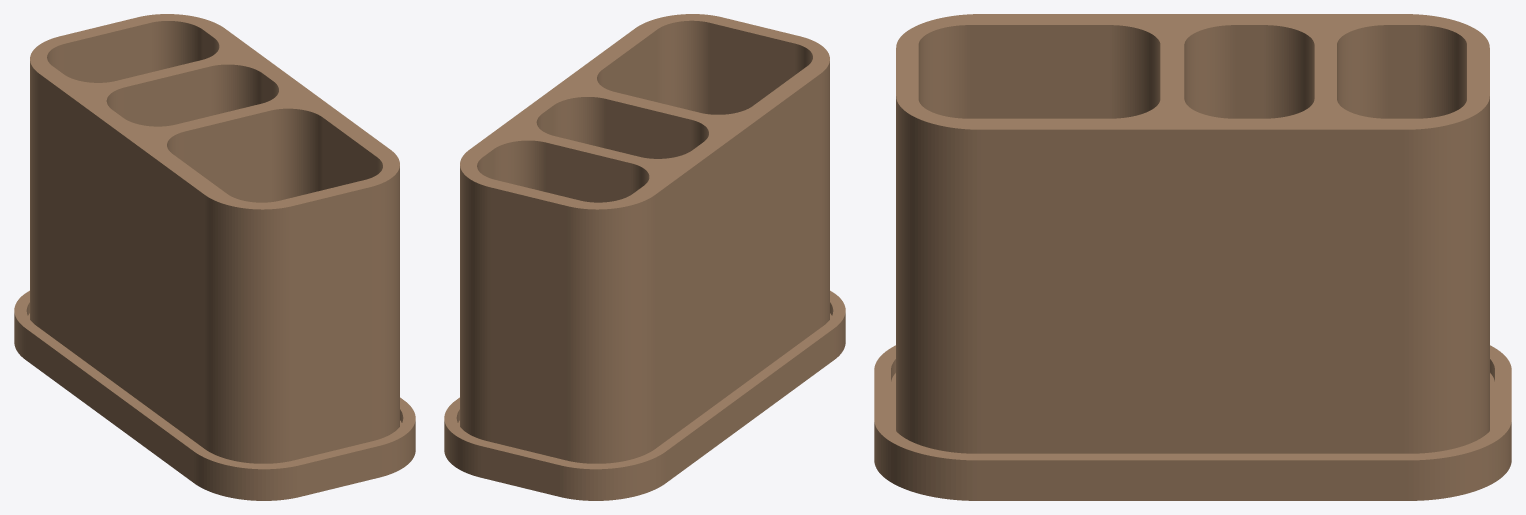
Rendered from pen-cup-three-comp.glb.
3 views of the same model, side by side, from view 1: azimuth 30°, elevation 25°; view 2: azimuth 150°, elevation 25°; view 3: azimuth 270°, elevation 25° (orthographic). The views are drawn at different scales.
Parts seen in each view (by area): view 1: Washroom Organizer, Washroom Organizer Tray; view 2: Washroom Organizer, Washroom Organizer Tray; view 3: Washroom Organizer, Washroom Organizer Tray.
Boxes of the visible parts, x1,y1,x2,y2 form: Washroom Organizer: (30, 14, 399, 463); Washroom Organizer Tray: (14, 290, 415, 500); Washroom Organizer: (460, 14, 829, 463); Washroom Organizer Tray: (444, 290, 845, 500); Washroom Organizer: (896, 14, 1489, 453); Washroom Organizer Tray: (874, 345, 1511, 500).
Bounding box in the file's own units: 66.73 × 86.32 × 137.
